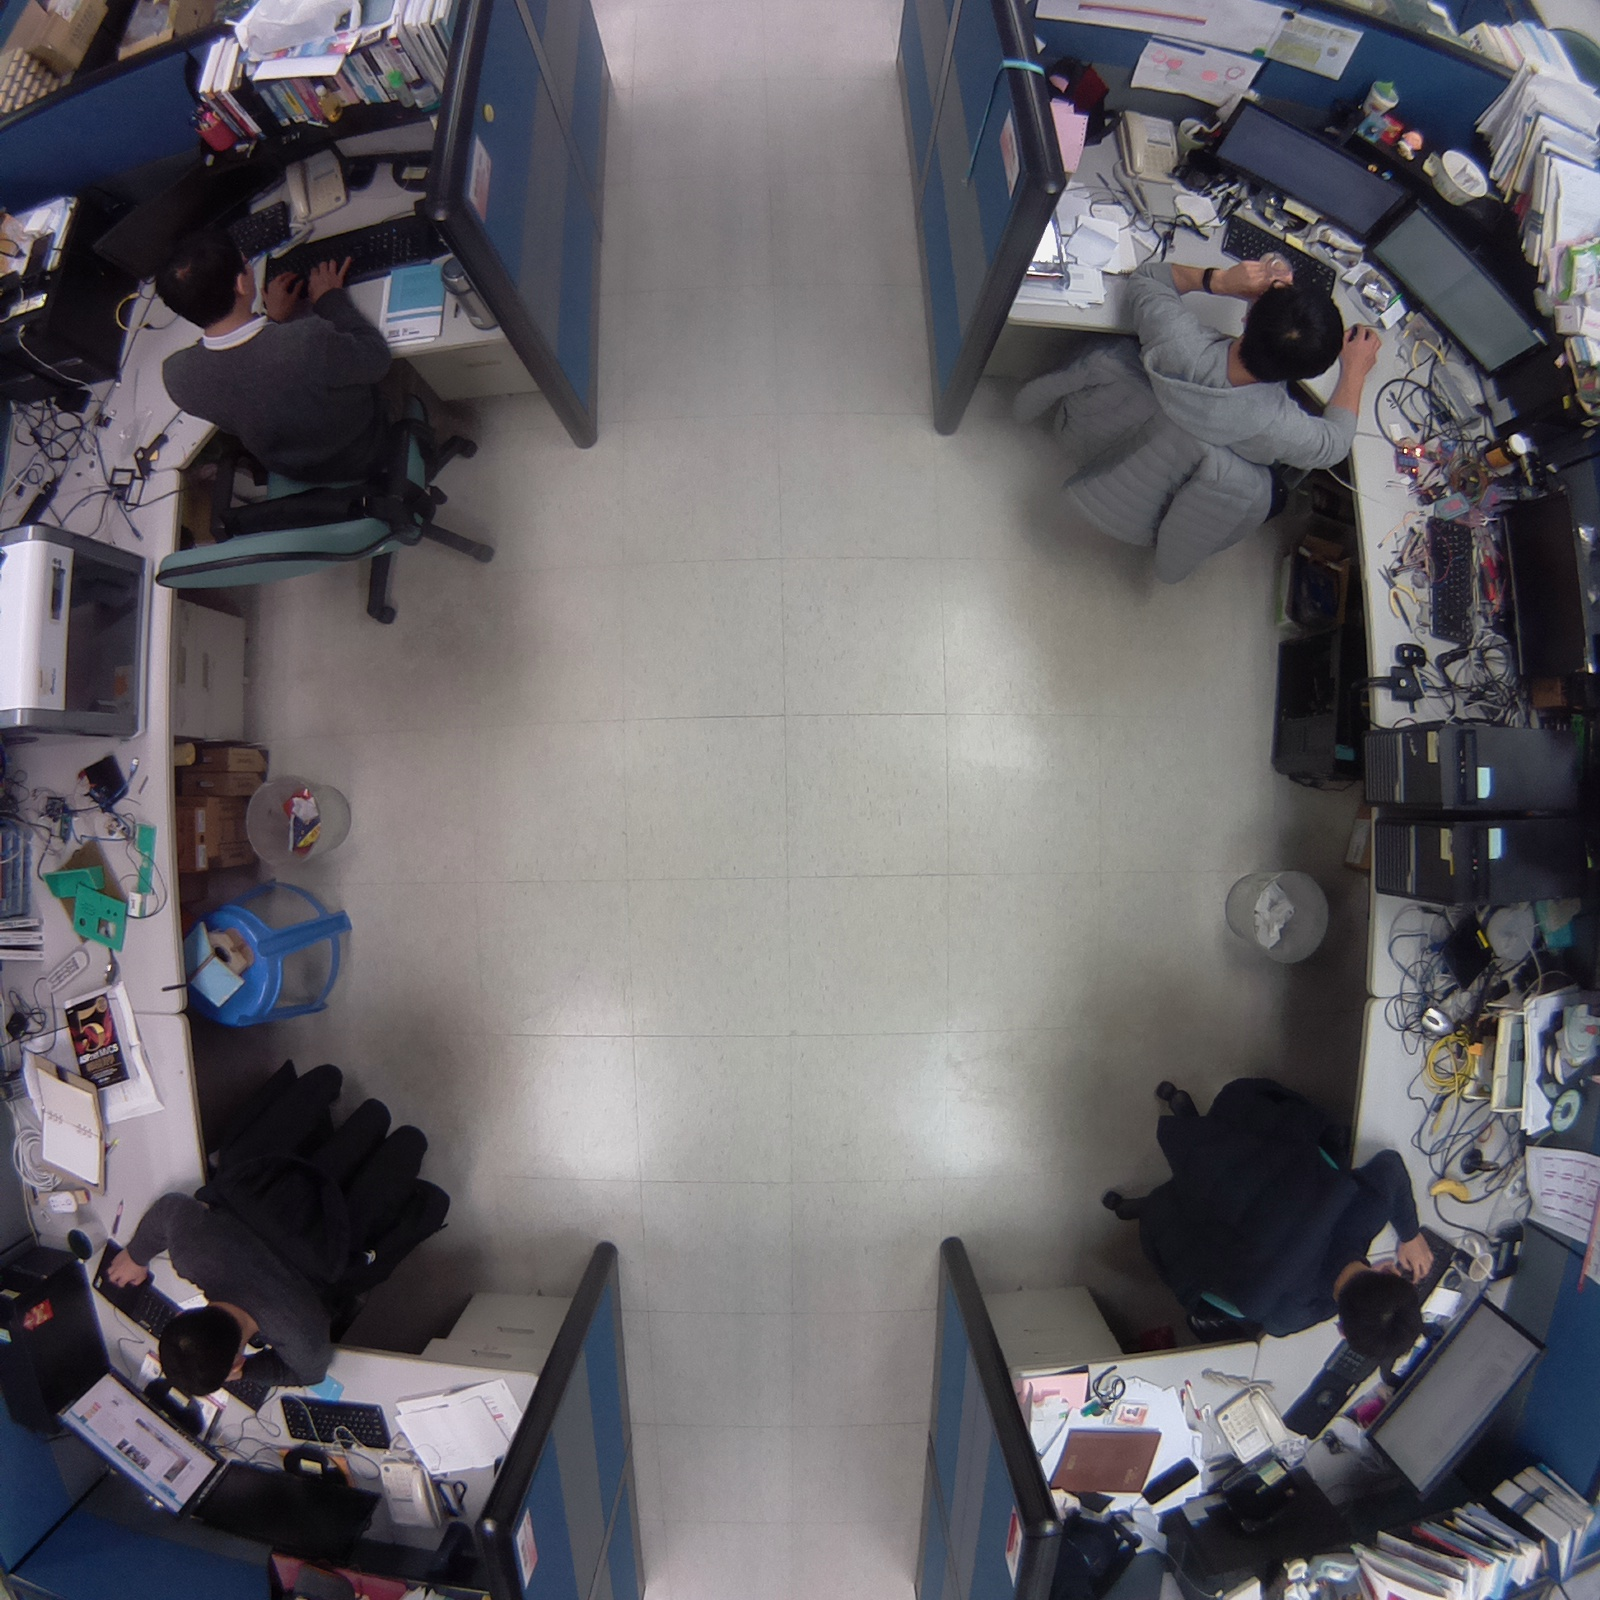sitting: (122, 207, 505, 633), (84, 1037, 494, 1420), (990, 232, 1405, 610), (1095, 1053, 1451, 1382)
